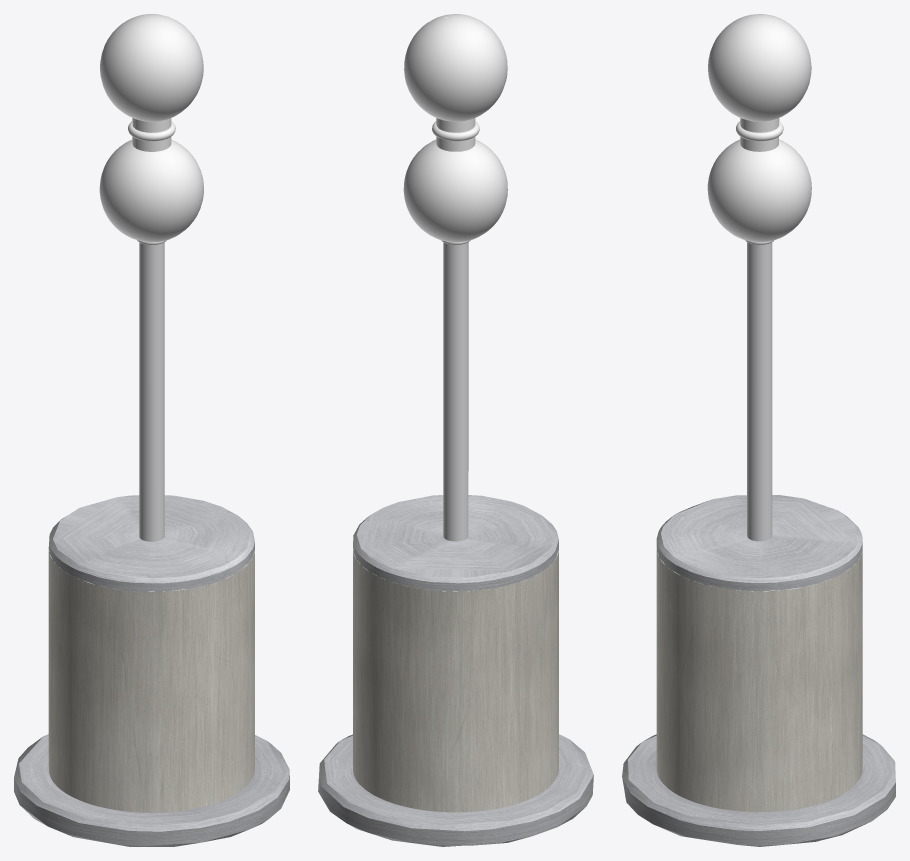
File: knight-white.glb
3 views of the same model, side by side, from view 1: azimuth 30°, elevation 25°; view 2: azimuth 150°, elevation 25°; view 3: azimuth 270°, elevation 25° (orthographic).
Parts seen in each view (by area): view 1: ferro-orbis_knight_white; view 2: ferro-orbis_knight_white; view 3: ferro-orbis_knight_white.
Boxes of the visible parts, bbox=[...] form: ferro-orbis_knight_white: bbox=[14, 14, 289, 846]; ferro-orbis_knight_white: bbox=[318, 14, 593, 846]; ferro-orbis_knight_white: bbox=[622, 14, 895, 846].
Size of the model in its own units: 0.4279 by 1.32 by 0.425.
Materials: 5 (3 with a texture image).
